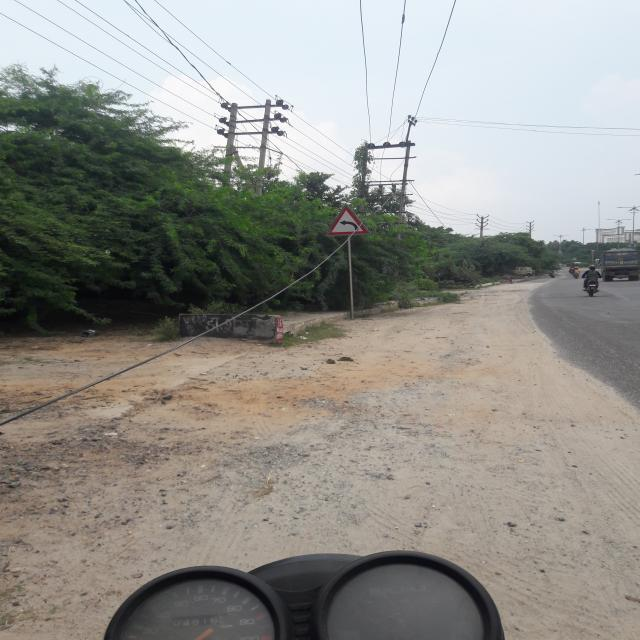left hand curve: (328, 204, 370, 233)
